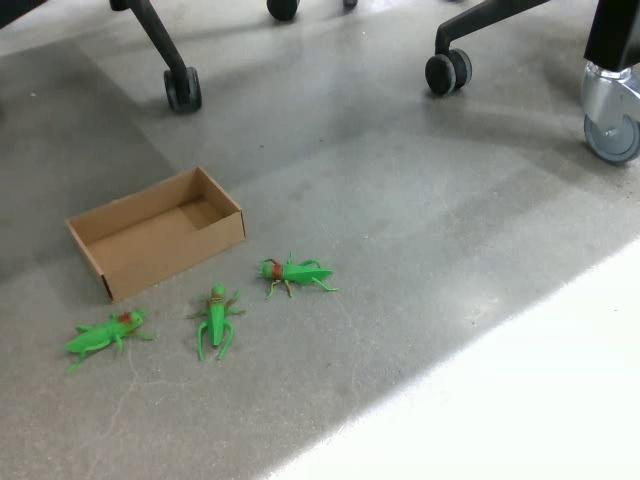box: (63, 164, 246, 304)
grasshopper: (63, 308, 152, 373), (184, 281, 245, 361), (255, 250, 339, 299)
